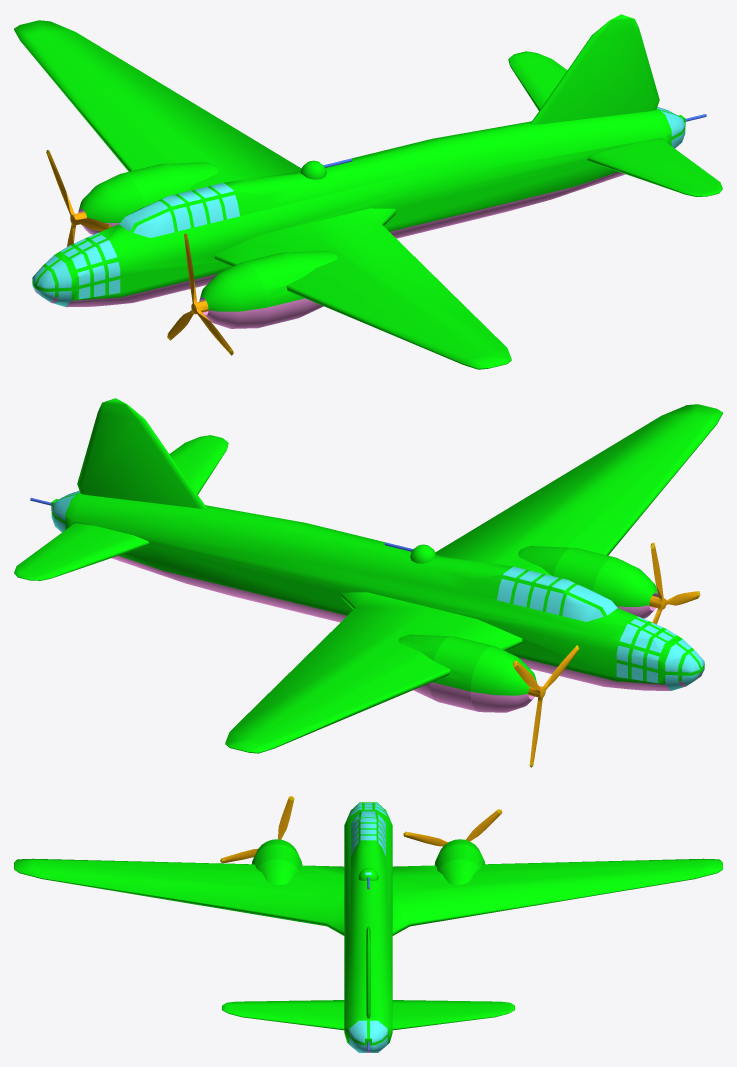
3 renders of one model, top to bottom at view 1: azimuth 30°, elevation 25°; view 2: azimuth 150°, elevation 25°; view 3: azimuth 270°, elevation 25°, orthographic. The views are drawn at different scales.
Visible parts, largest first — view 1: body, propeller_left, propeller_right; view 2: body, propeller_right, propeller_left; view 3: body, propeller_right, propeller_left.
Boxes of the visible parts, x1,y1,x2,y2 form: body: (14, 14, 722, 369); propeller_left: (167, 233, 233, 355); propeller_right: (46, 150, 111, 246); body: (14, 398, 722, 753); propeller_right: (513, 645, 579, 767); propeller_left: (649, 542, 700, 624); body: (14, 802, 722, 1052); propeller_right: (403, 809, 502, 846); propeller_left: (220, 796, 294, 863).
Bounding box in the file's own units: 20.57 × 5.84 × 24.89.
